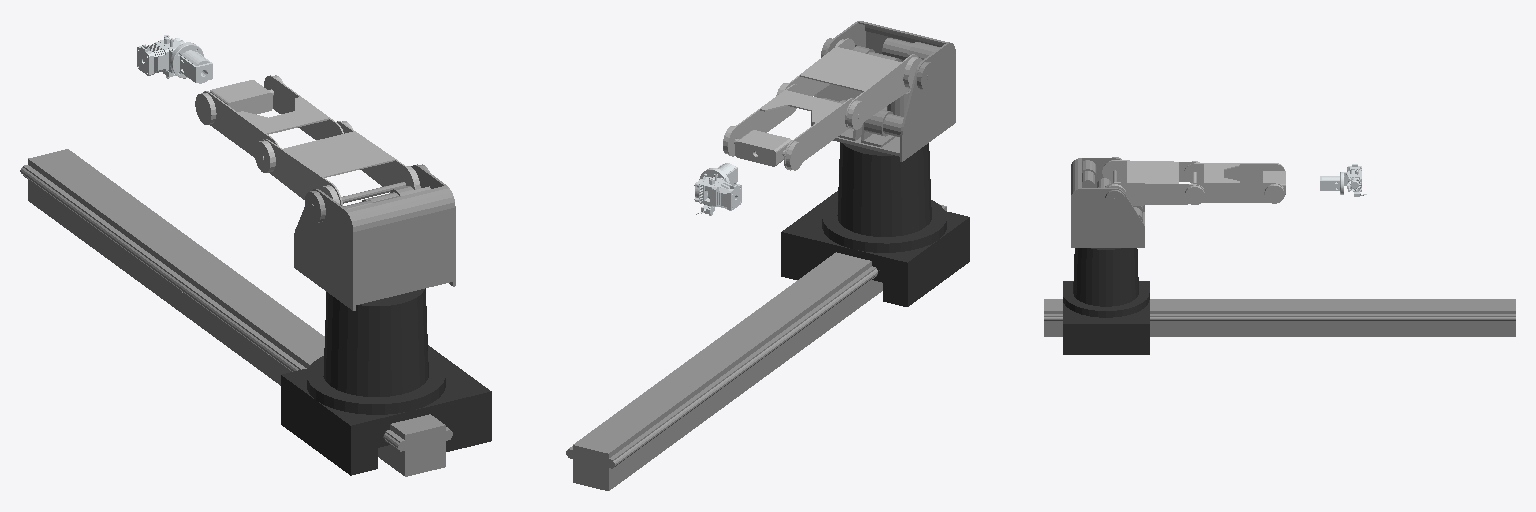
The robot description file, URDF, robot "scorbot-er-v-plus":
<?xml version="1.0" encoding="utf-8"?>
<!-- This URDF was automatically created by SolidWorks to URDF Exporter! Originally created by [author] ([email redacted]) 
     Commit Version: 1.6.0-4-g7f85cfe  Build Version: 1.6.7995.38578
     For more information, please see http://wiki.ros.org/sw_urdf_exporter -->
<robot
  name="scorbot-er-v-plus">
  <link name="world">
  </link>
  <link name="base_link">
    <inertial>
      <origin 
        xyz="0 0.65 0.04" rpy="0 0 0" /> 
      <mass value="54.14" /> 
      <inertia 
        ixx="13.66" ixy="0" ixz="0" 
        iyy="0.07" iyz="0.65" 
        izz="13.62" /> 
    </inertial>
    <visual>
      <origin
        xyz="0 0 0"
        rpy="0 0 0" />
      <geometry>
        <mesh
          filename="package://scorbot_er_v/meshes/slide_base_link.STL" />
      </geometry>
      <material
        name="">
        <color
          rgba="0.63921 0.63921 0.63921 1" />
      </material>
    </visual>
    <collision>
      <origin
        xyz="0 0 0"
        rpy="0 0 0" />
      <geometry>
        <mesh
          filename="package://scorbot_er_v/meshes/slide_base_link.STL" />
      </geometry>
    </collision>
  </link>
  <joint name="world_link" type="fixed">
    <parent link="world"/>
    <child link="base_link"/>
  </joint>
  <link name="slide_base_link">
    <inertial>
      <origin 
        xyz="-0.01 0.01 0" rpy="0 0 0" /> 
      <mass value="5.77" /> 
      <inertia  
        ixx="0.07" ixy="0" ixz="0" 
        iyy="0.07" iyz="0" 
        izz="0.08" /> 
    </inertial>
    <visual>
      <origin xyz="0 0 0" rpy="0 0 0" />
      <geometry>
        <mesh
          filename="package://scorbot_er_v/meshes/base_link.STL" />
      </geometry>
      <material
        name="">
        <color
          rgba="0.2666 0.2666 0.2666 1" />
      </material>
    </visual>
    <collision>
      <origin
        xyz="0 0 0"
        rpy="0 0 0" />
      <geometry>
        <mesh
          filename="package://scorbot_er_v/meshes/base_link.STL" />
      </geometry>
    </collision>
  </link>
  <joint name="slide_base_joint"
    type="prismatic">
    <origin
      xyz="0 0.17 0.096"
      rpy="1.570796327 0 3.141592654" />
    <parent link="base_link" />
    <child link="slide_base_link" />
    <axis xyz="0 0 1" />
    <limit
      lower="0"
      upper="0.950"
      effort="0"
      velocity="0" />
  </joint>
  <link name="body_link">
    <inertial>
      <origin 
        xyz="0 0 -0.07" rpy="0 0 0" /> 
      <mass value="4.26" /> 
      <inertia 
        ixx="0.05" ixy="0" ixz="0" 
        iyy="0.05" iyz="0" 
        izz="0.03" /> 
    </inertial>
    <visual>
      <origin
        xyz="0 0 0"
        rpy="0 0 0" />
      <geometry>
        <mesh
          filename="package://scorbot_er_v/meshes/body_link.STL" />
      </geometry>
      <material
        name="">
        <color
          rgba="0.63921 0.63921 0.63921 1" />
      </material>
    </visual>
    <collision>
      <origin
        xyz="0 0 0"
        rpy="0 0 0" />
      <geometry>
        <mesh
          filename="package://scorbot_er_v/meshes/body_link.STL" />
      </geometry>
    </collision>
  </link>
  <joint name="body_joint"
    type="continuous">
    <origin
      xyz="0 0.354 0"
      rpy="-1.570796327 -1.570796327 0" />
    <parent
      link="slide_base_link" />
    <child
      link="body_link" />
    <axis
      xyz="0 0 1" />
    <dynamics damping="0.7"/>
  </joint>
  <link name="shoulder_link">
    <inertial>
      <origin 
        xyz="0.10 0.01 0" rpy="0 0 0" /> 
      <mass value="2.16" /> 
      <inertia 
        ixx="0.01" ixy="0" ixz="0" 
        iyy="0.05" iyz="0" 
        izz="0.04" /> 
    </inertial>
    <visual>
      <origin
        xyz="0 0 0"
        rpy="0 0 0" />
      <geometry>
        <mesh
          filename="package://scorbot_er_v/meshes/shoulder_link.STL" />
      </geometry>
      <material
        name="">
        <color
          rgba="0.752941176470588 0.752941176470588 0.752941176470588 1" />
      </material>
    </visual>
    <collision>
      <origin
        xyz="0 0 0"
        rpy="0 0 0" />
      <geometry>
        <mesh
          filename="package://scorbot_er_v/meshes/shoulder_link.STL" />
      </geometry>
    </collision>
  </link>
  <joint name="shoulder_joint"
    type="continuous">
    <origin
      xyz="0.025 0 0"
      rpy="1.570796327 0 0" />
    <parent
      link="body_link" />
    <child
      link="shoulder_link" />
    <axis
      xyz="0 0 1" />
    <dynamics damping="0.7"/>
  </joint>
  <link name="elbow_link">
    <inertial>
      <origin 
        xyz="0.13 0 0" rpy="0 0 0" /> 
      <mass value="1.33" /> 
      <inertia 
        ixx="0.01" ixy="0" ixz="0" 
        iyy="0.04" iyz="0" 
        izz="0.03" /> 
    </inertial>
    <visual>
      <origin
        xyz="0 0 0"
        rpy="0 0 0" />
      <geometry>
        <mesh
          filename="package://scorbot_er_v/meshes/elbow_link.STL" />
      </geometry>
      <material
        name="">
        <color
          rgba="0.752941176470588 0.752941176470588 0.752941176470588 1" />
      </material>
    </visual>
    <collision>
      <origin
        xyz="0 0 0"
        rpy="0 0 0" />
      <geometry>
        <mesh
          filename="package://scorbot_er_v/meshes/elbow_link.STL" />
      </geometry>
    </collision>
  </link>
  <joint name="elbow_joint"
    type="continuous">
    <origin
      xyz="0.22 0 0"
      rpy="0 0 0" />
    <parent
      link="shoulder_link" />
    <child
      link="elbow_link" />
    <axis
      xyz="0 0 1" />
    <dynamics damping="0.7"/>
  </joint>
  <link name="wrist_link">
    <inertial>
      <origin 
        xyz="0 0 0" 
        rpy="0 0 0" />
      <mass value="0.11" />
      <inertia
        ixx="0.0001"
        ixy="0.000"
        ixz="0.000"
        iyy="0.0001"
        iyz="0.000"
        izz="0.0001" />
    </inertial>
    <visual>
      <origin
        xyz="0 0 0"
        rpy="0 0 0" />
      <geometry>
        <mesh
          filename="package://scorbot_er_v/meshes/wrist_link.STL" />
      </geometry>
      <material
        name="">
        <color
          rgba="0.752941176470588 0.752941176470588 0.752941176470588 1" />
      </material>
    </visual>
    <collision>
      <origin
        xyz="0 0 0"
        rpy="0 0 0" />
      <geometry>
        <mesh
          filename="package://scorbot_er_v/meshes/wrist_link.STL" />
      </geometry>
    </collision>
  </link>
  <joint name="wrist_joint"
    type="continuous">
    <origin
      xyz="0.22 0 0"
      rpy="0 0 1.5707963267949" />
    <parent
      link="elbow_link" />
    <child
      link="wrist_link" />
    <axis
      xyz="0 0 1" />
    <dynamics damping="0.7"/>
  </joint>
  <link name="roll_wrist_link">
    <inertial>
      <origin 
        xyz="0 0 0.069" 
        rpy="0 0 0" />
      <mass value="0.208" />
      <inertia
        ixx="0.001"
        ixy="0.000"
        ixz="0.000"
        iyy="0.001"
        iyz="0.000"
        izz="0.000" />
    </inertial>
    <visual>
      <origin
        xyz="0 0 0.0955"
        rpy="0 0 0" />
      <geometry>
        <mesh
          filename="package://scorbot_er_v/meshes/roll_wrist_link.STL" />
      </geometry>
      <material
        name="">
        <color
          rgba="0.898039215686275 0.917647058823529 0.929411764705882 1" />
      </material>
    </visual>
    <collision>
      <origin
        xyz="0 0 0.0955"
        rpy="0 0 0" />
      <geometry>
        <mesh
          filename="package://scorbot_er_v/meshes/roll_wrist_link.STL" />
      </geometry>
    </collision>
  </link>
  <joint name="roll_wrist_joint"
    type="continuous">
    <origin
      xyz="0 0 0"
      rpy="1.5707963267949 0 0" />
    <parent
      link="wrist_link" />
    <child
      link="roll_wrist_link" />
    <axis
      xyz="0 0 1" />
    <dynamics damping="0.7"/>
  </joint>

  <ros2_control name="GazeboSystem" type="system">

    <hardware>
      <plugin>gazebo_ros2_control/GazeboSystem</plugin>
    </hardware>

    <joint name="slide_base_joint">
      <command_interface name="position"/>
      <state_interface name="position">
        <param name="initial_value">0.0</param>
      </state_interface>
      <state_interface name="velocity"/>
    </joint>

    <joint name="body_joint">
      <command_interface name="position"/>
      <state_interface name="position">
        <param name="initial_value">0.0</param>
      </state_interface>
      <state_interface name="velocity"/>
    </joint>

    <joint name="shoulder_joint">
      <command_interface name="position"/>
      <state_interface name="position">
        <param name="initial_value">0.0</param>
      </state_interface>
      <state_interface name="velocity"/>
    </joint>

    <joint name="elbow_joint">
      <command_interface name="position"/>
      <state_interface name="position">
        <param name="initial_value">0.0</param>
      </state_interface>
      <state_interface name="velocity"/>
    </joint>

    <joint name="wrist_joint">
      <command_interface name="position"/>
      <state_interface name="position">
        <param name="initial_value">0.0</param>
      </state_interface>
      <state_interface name="velocity"/>
    </joint>

    <joint name="roll_wrist_joint">
      <command_interface name="position"/>
      <state_interface name="position">
        <param name="initial_value">0.0</param>
      </state_interface>
      <state_interface name="velocity"/>
    </joint>
  </ros2_control>

  <gazebo>
    <plugin name="gazebo_ros2_control" filename="libgazebo_ros2_control.so">
      <parameters>[local-path]/scorbot_ws/src/scorbot_er_v/config/scorbot_er_v_controllers.yaml</parameters>
    </plugin>
  </gazebo>
  
</robot>

--- What the picture shows (computed from the rendered views, not written in the file) ---
The picture shows the robot from 3 angles, left to right: view 1: azimuth 30°, elevation 25°; view 2: azimuth 150°, elevation 25°; view 3: azimuth 270°, elevation 25°; orthographic projection.
Model scorbot-er-v-plus with 8 links and 7 joints (5 continuous, 1 prismatic, 1 fixed), rooted at world, posed all joints at 0.
Links seen in each view (by area): view 1: base_link, slide_base_link, body_link, shoulder_link, elbow_link, roll_wrist_link, wrist_link; view 2: base_link, slide_base_link, body_link, shoulder_link, elbow_link, roll_wrist_link, wrist_link; view 3: base_link, slide_base_link, body_link, shoulder_link, elbow_link, roll_wrist_link.
Boxes of the visible links, box(x1,y1,x2,y2) form: base_link: box(20, 149, 452, 476); slide_base_link: box(281, 288, 491, 475); body_link: box(294, 164, 455, 310); shoulder_link: box(254, 121, 420, 205); elbow_link: box(195, 75, 343, 157); roll_wrist_link: box(137, 35, 212, 83); wrist_link: box(202, 80, 273, 114); base_link: box(566, 204, 946, 490); slide_base_link: box(781, 142, 969, 306); body_link: box(811, 21, 955, 161); shoulder_link: box(776, 38, 922, 129); elbow_link: box(723, 84, 853, 170); roll_wrist_link: box(694, 163, 741, 215); wrist_link: box(734, 130, 798, 166); base_link: box(1044, 299, 1515, 336); slide_base_link: box(1063, 248, 1149, 354); body_link: box(1071, 157, 1144, 247); shoulder_link: box(1102, 160, 1205, 205); elbow_link: box(1184, 163, 1284, 203); roll_wrist_link: box(1320, 164, 1366, 196).
Bounding box of the posed robot: 0.28 × 1.3 × 0.4855 m (x, y, z).
Meshes: 7 distinct files referenced, 7 mesh visuals loaded (7 binary STL).